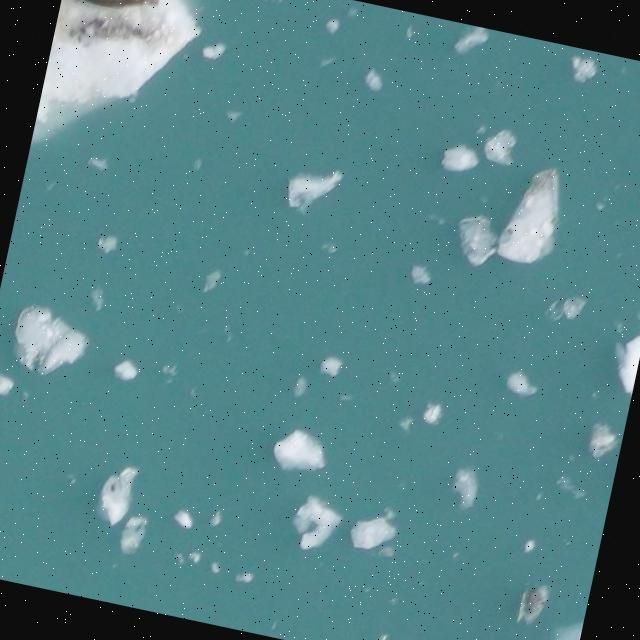seal: (81, 0, 158, 10)
